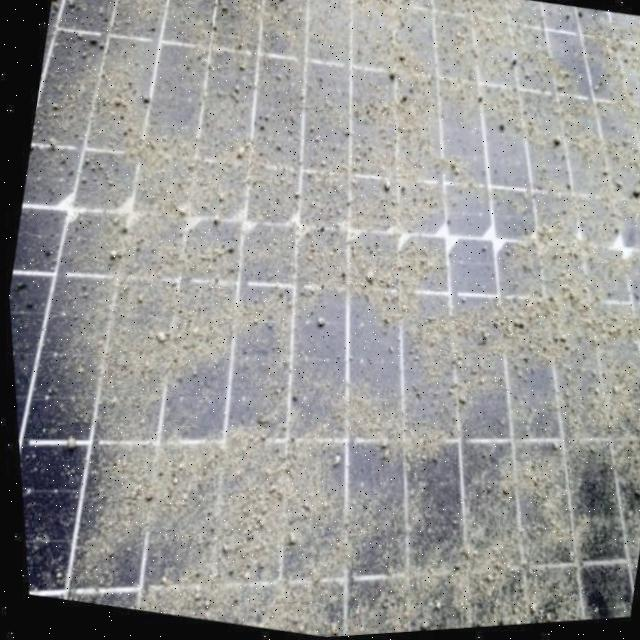Surface Contaminant: (4, 0, 640, 640)
